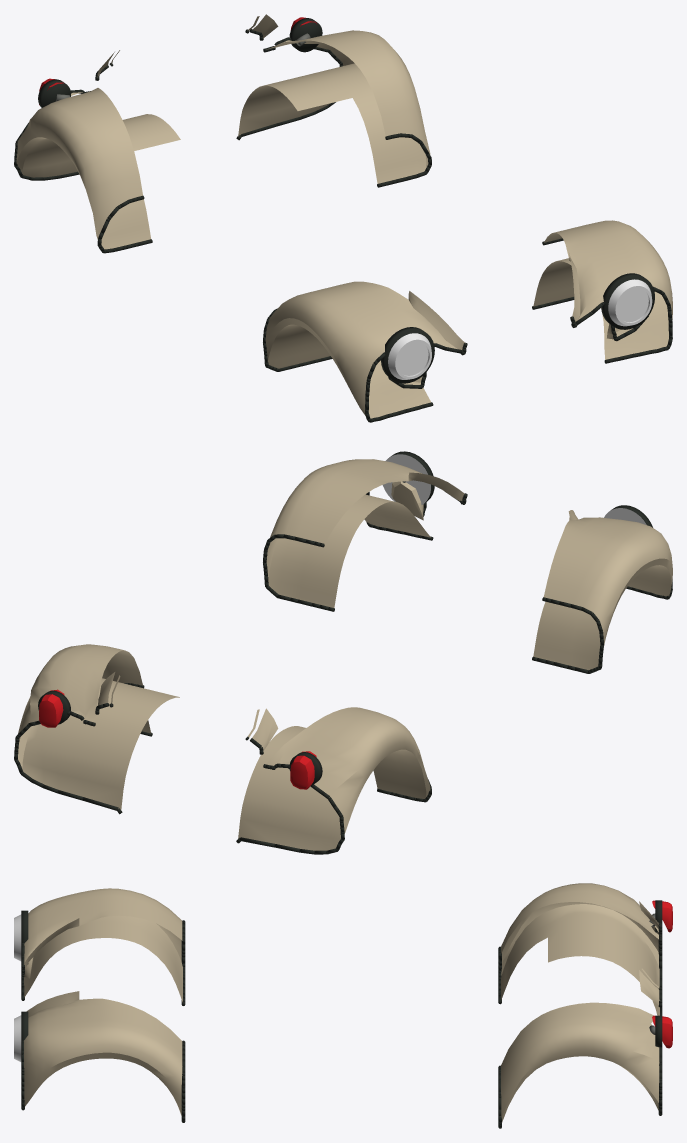
The model's file is PART_010_FiberglassWideFenders.glb.
3 renders of one model, top to bottom at view 1: azimuth 30°, elevation 25°; view 2: azimuth 150°, elevation 25°; view 3: azimuth 270°, elevation 25°, orthographic. The views are drawn at different scales.
Visible parts, largest first — view 1: BODY_BajaWide_Fender_FR_0, BODY_BajaWide_Fender_RL_0, BODY_BajaWide_Fender_RR_0, BODY_BajaWide_Fender_FL_0, TRIM_FenderEdge_FL_Front_0, TRIM_FenderEdge_FR_Front_0, EXTERIOR_BajaLamp_FR_1, EXTERIOR_BajaLamp_FL_1, EXTERIOR_BajaLamp_FL_0, EXTERIOR_BajaLamp_FR_0, EXTERIOR_BajaLampBucket_FL, EXTERIOR_BajaLampBucket_FR (+2 smaller); view 2: BODY_BajaWide_Fender_RR_0, BODY_BajaWide_Fender_RL_0, BODY_BajaWide_Fender_FL_0, BODY_BajaWide_Fender_FR_0, TRIM_FenderEdge_RR_Back_0, TRIM_FenderEdge_RL_Back_0, EXTERIOR_BajaLamp_FL_1, TRIM_FenderEdge_FL_Back_0, TRIM_FenderEdge_FR_Back_0, EXTERIOR_BajaLamp_RR_1, EXTERIOR_BajaLamp_RL_1; view 3: BODY_BajaWide_Fender_FL_0, BODY_BajaWide_Fender_RR_0, BODY_BajaWide_Fender_RL_0, BODY_BajaWide_Fender_FR_0.
Boxes of the visible parts, x1,y1,x2,y2 form: BODY_BajaWide_Fender_FR_0: (265, 281, 465, 418); BODY_BajaWide_Fender_RL_0: (238, 14, 430, 183); BODY_BajaWide_Fender_RR_0: (16, 50, 180, 249); BODY_BajaWide_Fender_FL_0: (533, 220, 672, 359); TRIM_FenderEdge_FL_Front_0: (570, 286, 672, 363); TRIM_FenderEdge_FR_Front_0: (365, 342, 467, 422); EXTERIOR_BajaLamp_FR_1: (388, 333, 431, 379); EXTERIOR_BajaLamp_FL_1: (608, 279, 652, 326); EXTERIOR_BajaLamp_FL_0: (617, 288, 648, 322); EXTERIOR_BajaLamp_FR_0: (397, 342, 428, 375); EXTERIOR_BajaLampBucket_FL: (601, 273, 654, 329); EXTERIOR_BajaLampBucket_FR: (381, 327, 434, 383); BODY_BajaWide_Fender_RR_0: (238, 707, 430, 850); BODY_BajaWide_Fender_RL_0: (18, 644, 179, 810); BODY_BajaWide_Fender_FL_0: (266, 459, 464, 607); BODY_BajaWide_Fender_FR_0: (533, 510, 672, 670); TRIM_FenderEdge_RR_Back_0: (236, 736, 344, 854); TRIM_FenderEdge_RL_Back_0: (14, 703, 122, 814); EXTERIOR_BajaLamp_FL_1: (382, 454, 430, 504); TRIM_FenderEdge_FL_Back_0: (263, 534, 334, 611); TRIM_FenderEdge_FR_Back_0: (532, 597, 604, 673); EXTERIOR_BajaLamp_RR_1: (290, 751, 316, 789); EXTERIOR_BajaLamp_RL_1: (39, 689, 64, 727); BODY_BajaWide_Fender_FL_0: (23, 991, 182, 1115); BODY_BajaWide_Fender_RR_0: (501, 883, 659, 1015); BODY_BajaWide_Fender_RL_0: (500, 968, 659, 1122); BODY_BajaWide_Fender_FR_0: (24, 888, 182, 1002).
Size of the model in its own units: 1.84 by 0.6753 by 3.29.
